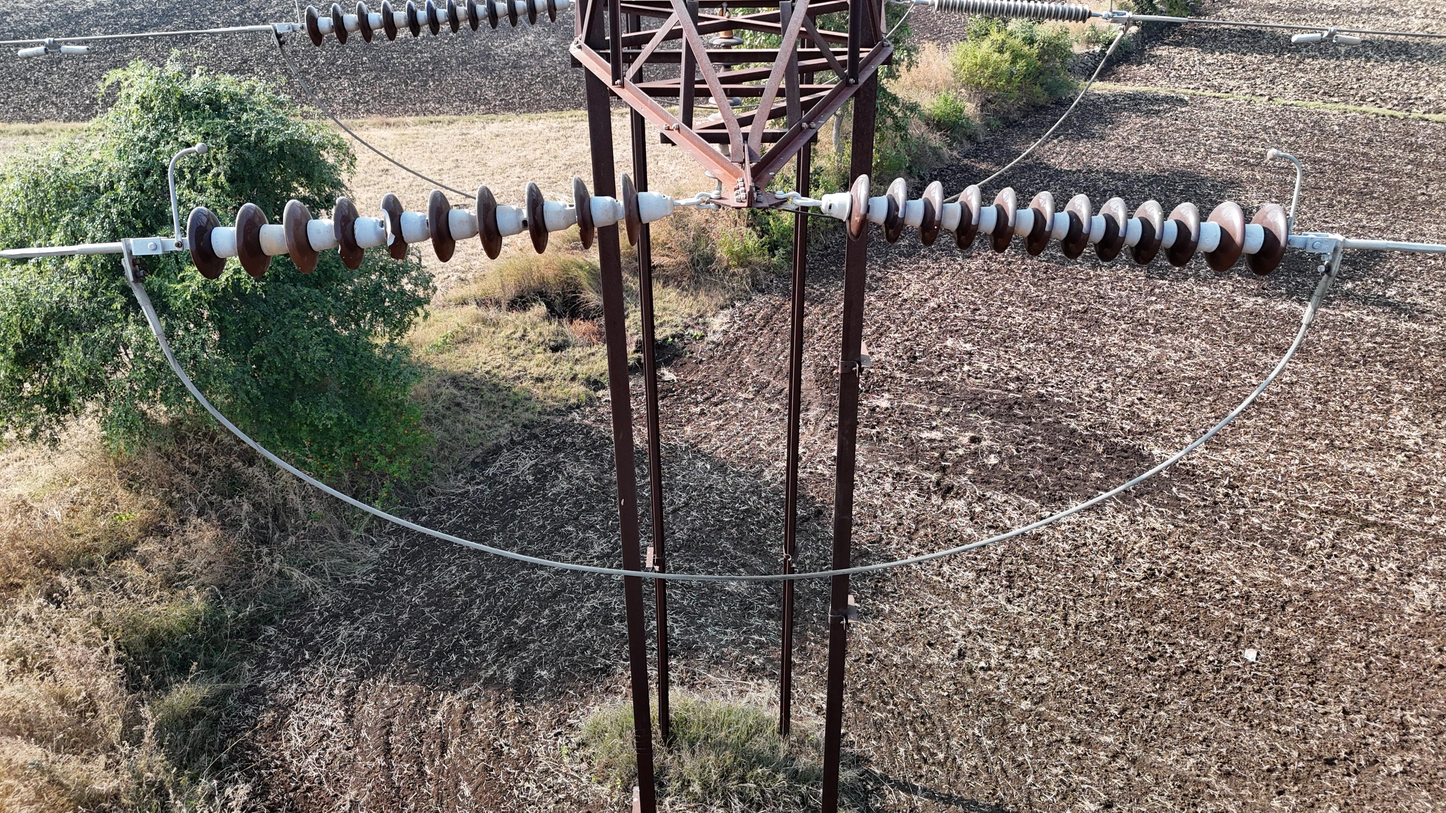broken_insulator: (372, 188, 417, 269), (331, 196, 362, 271), (571, 175, 596, 251)
